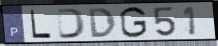1: (182, 5, 197, 38)
5: (151, 6, 177, 37)
D: (55, 7, 87, 40), (87, 7, 118, 39)
G: (118, 5, 149, 39)
L: (29, 9, 52, 40)
